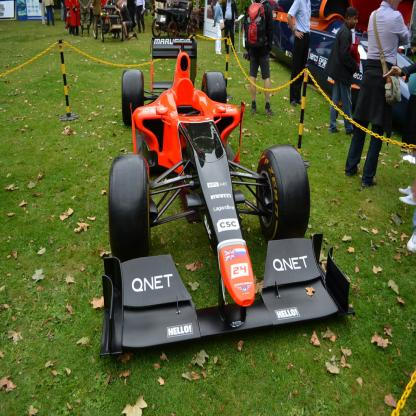Car: (100, 37, 357, 360)
